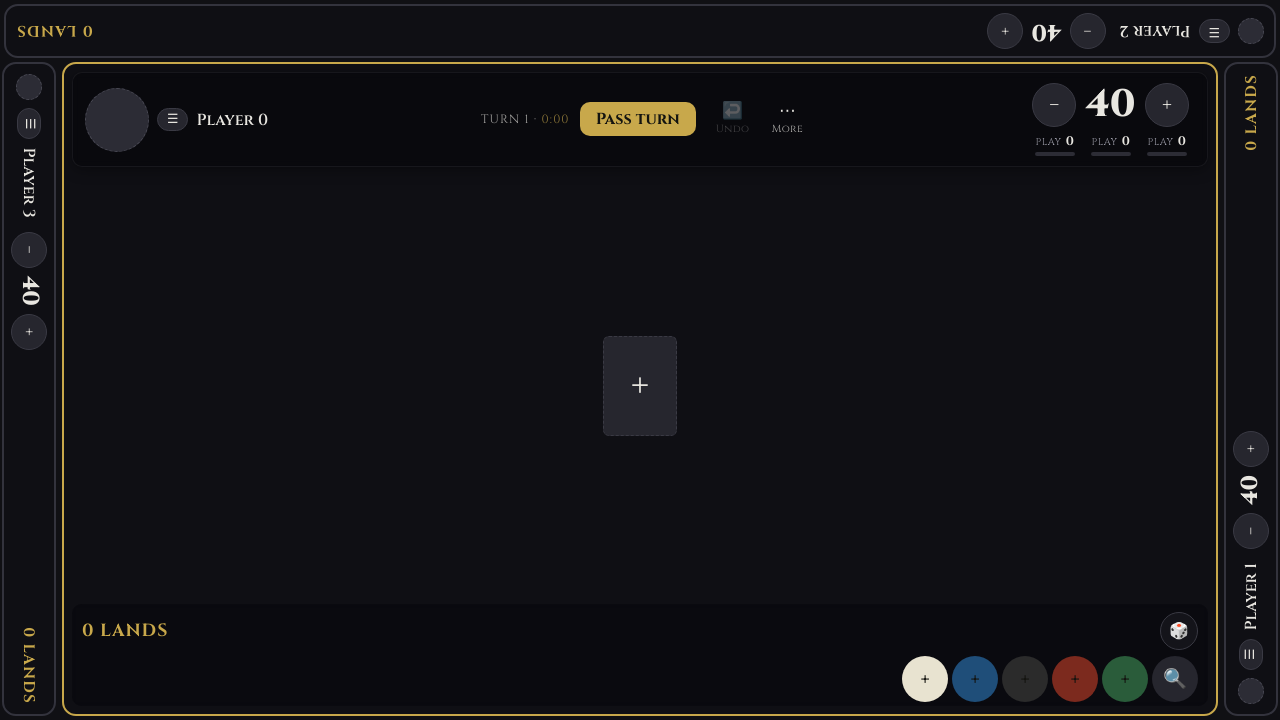
Test: every player has their own dice button beneath their life counter
Step 1. Click the button named "dice roller" → [1179, 631], box x1=1160 y1=612 x2=1198 y2=650
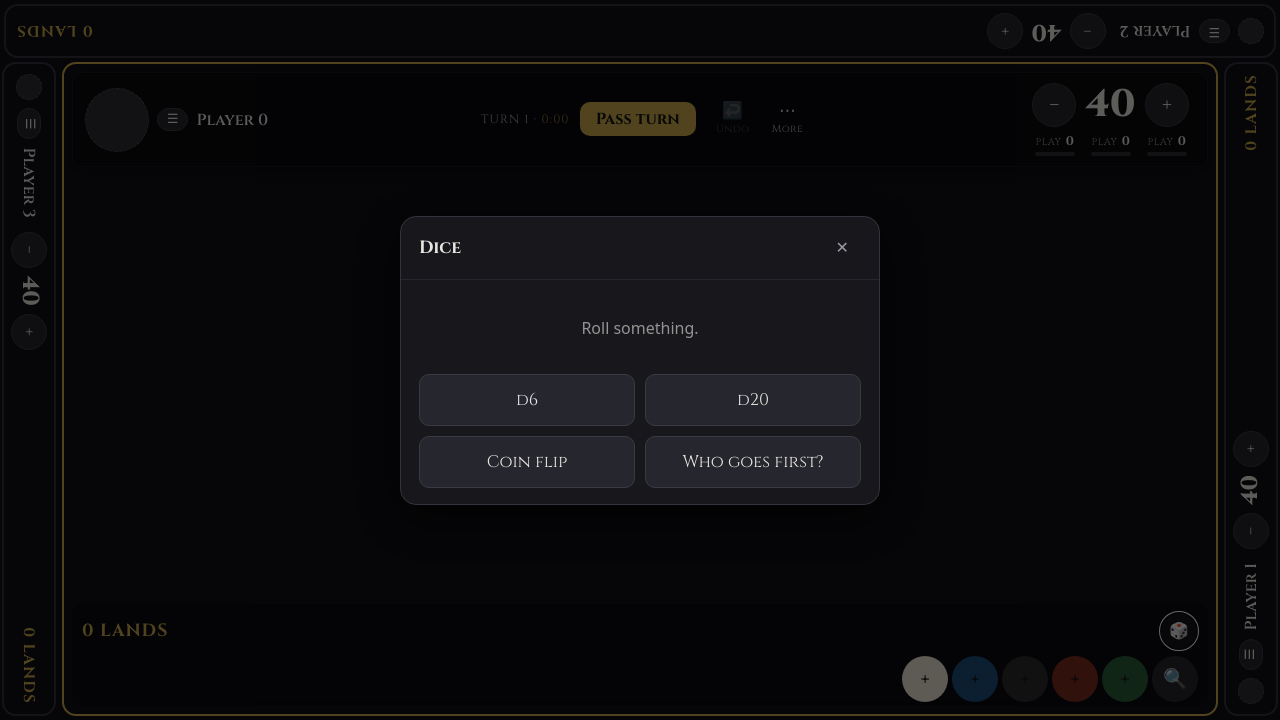
Expected: the button "Who goes first?" is shown, x1=645 y1=436 x2=861 y2=488
